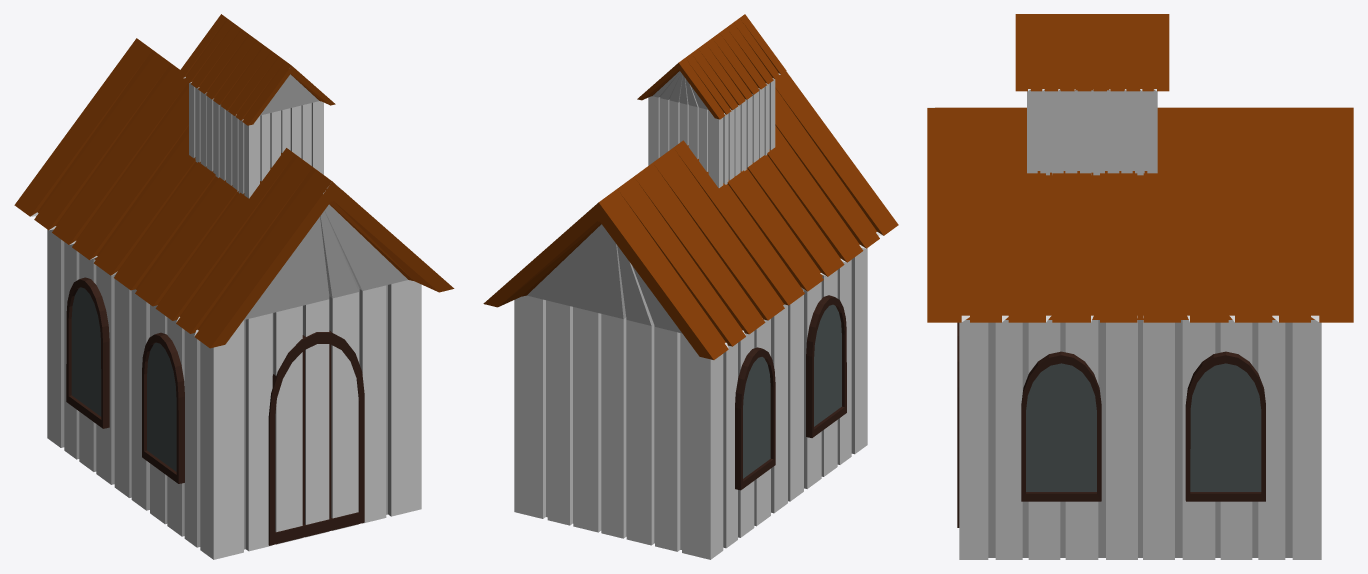
Rendered from Church.fbx.
3 renders of one model, left to right at view 1: azimuth 30°, elevation 25°; view 2: azimuth 150°, elevation 25°; view 3: azimuth 270°, elevation 25°, orthographic. The views are drawn at different scales.
Parts seen in each view (by area): view 1: polySurface9; view 2: polySurface9; view 3: polySurface9.
Part boxes in pixels (x1,y1,x2,y2): polySurface9: (14,14,454,559); polySurface9: (483,14,898,559); polySurface9: (927,14,1353,559).
Size of the model in its own units: 115 by 202 by 159.
